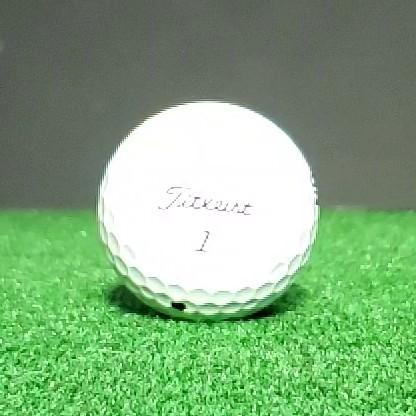golfball: (97, 102, 319, 321)
